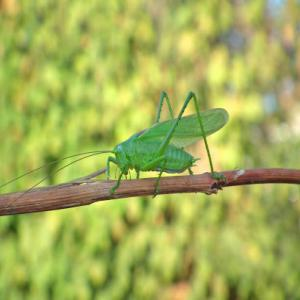locust: (89, 80, 245, 213)
